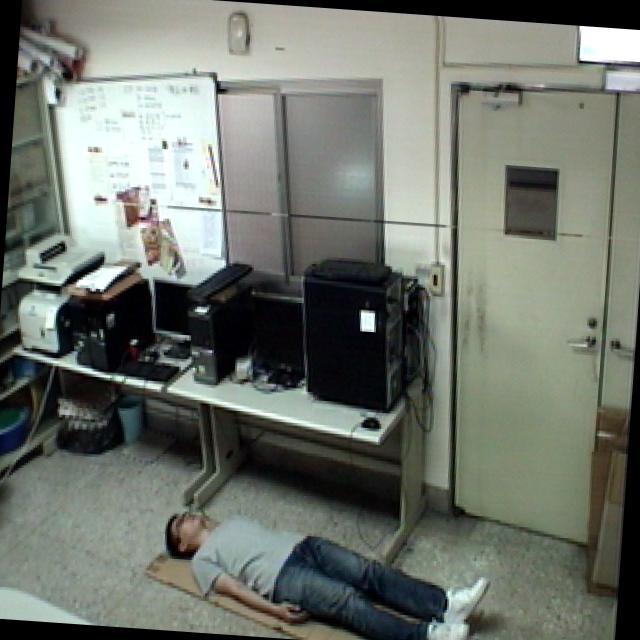lie: (140, 490, 497, 640)
